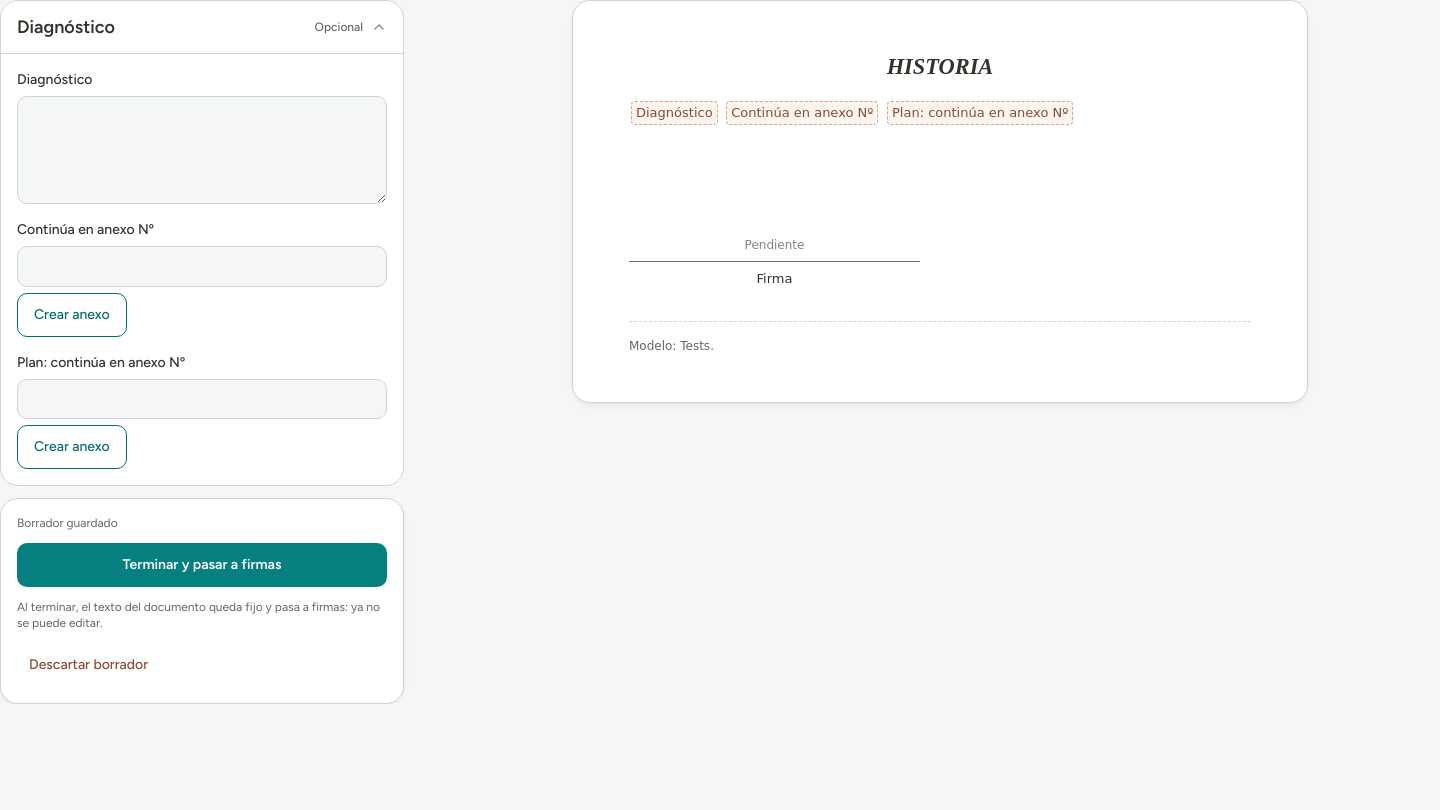
Test: el Continúa en anexo Nº del editor › sin anexo, el campo se edita y ofrece crearlo; creado, lleva su número y queda de solo lectura
Expected: the number field labelled "Continúa en anexo Nº" is enabled, x1=17 y1=246 x2=387 y2=286
Expected: the text "Lo numera el anexo" is not shown
Click the 1st button "Crear anexo" at point(72, 314), box x1=17 y1=292 x2=127 y2=336
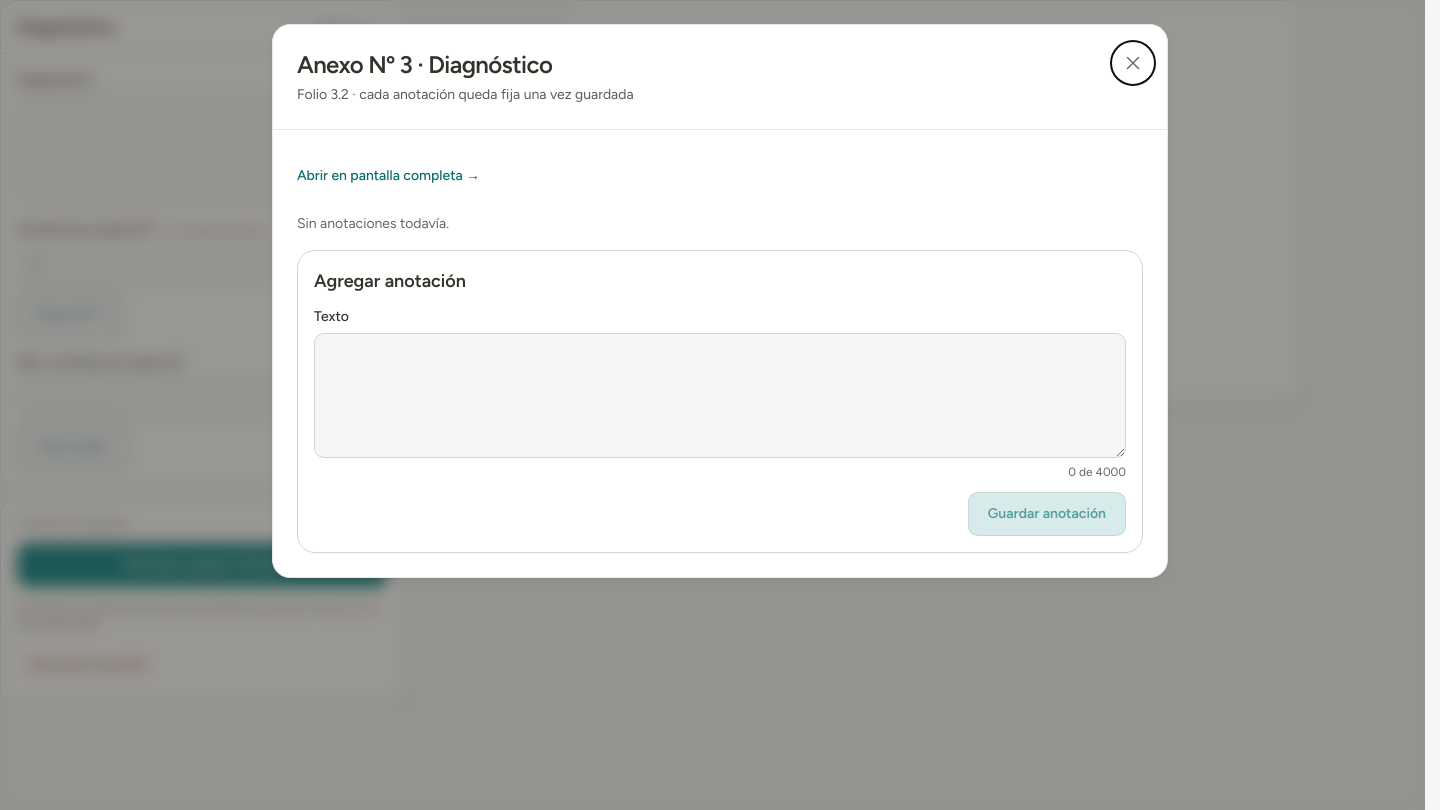
Expected: the dialog is shown, x1=272 y1=24 x2=1168 y2=578
Expected: the number field labelled "Continúa en anexo Nº· Lo numera el anexo" holds "3", x1=17 y1=246 x2=387 y2=286
Expected: the number field labelled "Continúa en anexo Nº· Lo numera el anexo" is disabled, x1=17 y1=246 x2=387 y2=286
